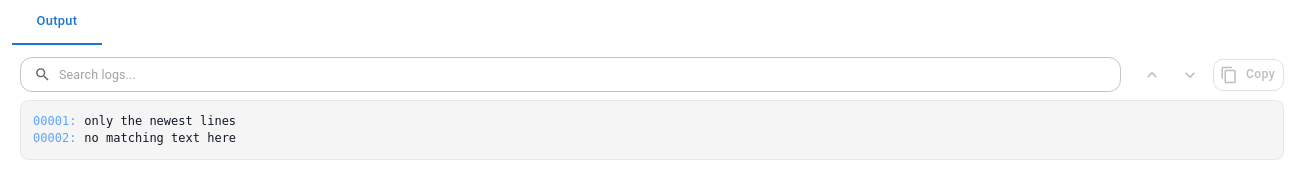
Test: ProtocolLogsPanel global log search › queries the server even when the visible window has no matches
This screenshot has width=1292, height=177.
Type "ERROR" into the field labelled "Search logs..." at (590, 75), box x1=59 y1=57 x2=1121 y2=92
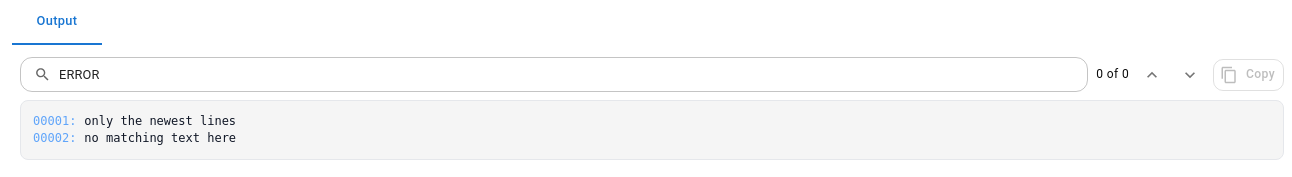
Press Enter in the field named "Search logs", box x1=59 y1=57 x2=1088 y2=92
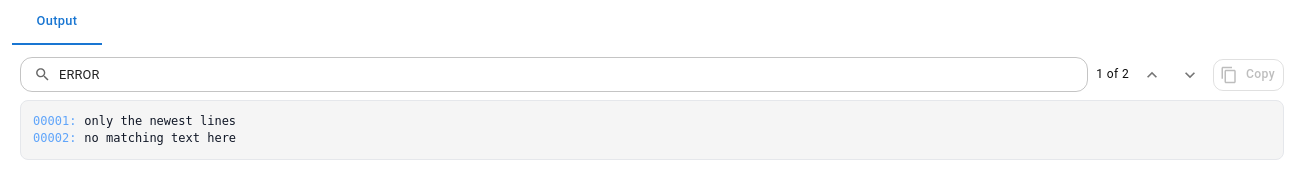
Result: the text "1 of 2" is shown at x1=1096 y1=65 x2=1129 y2=85
